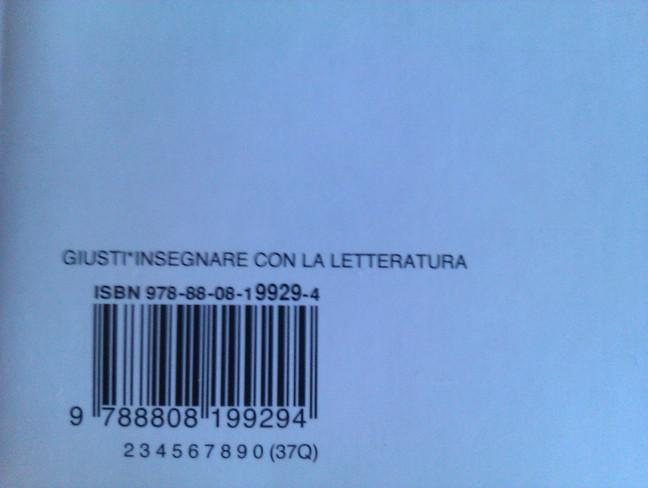Barkod: (44, 300, 377, 431)
